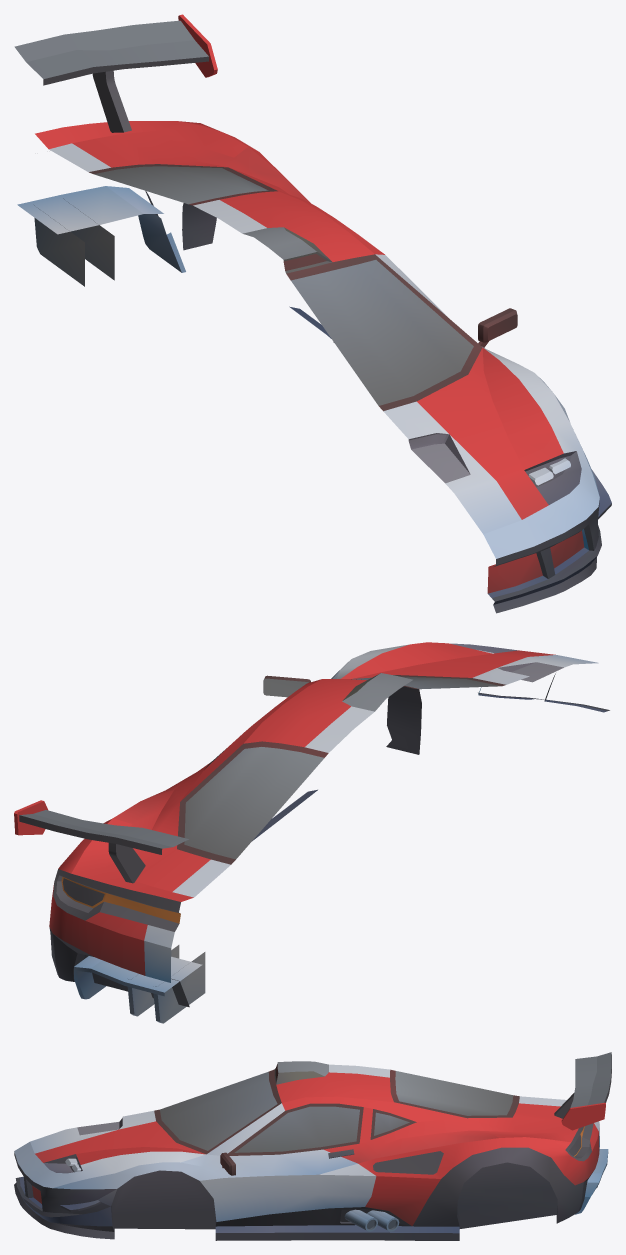
File: car4.glb
3 views of the same model, one above another, from view 1: azimuth 30°, elevation 25°; view 2: azimuth 150°, elevation 25°; view 3: azimuth 270°, elevation 25° (orthographic). The views are drawn at different scales.
Visible parts, largest first — view 1: car4; view 2: car4; view 3: car4.
Part boxes in pixels (box(x1,y1,x2,y2)): car4: box(14, 14, 611, 613); car4: box(14, 642, 609, 1023); car4: box(14, 1052, 611, 1240).
Bounding box in the file's own units: 0.2833 × 0.31 × 1.21.
